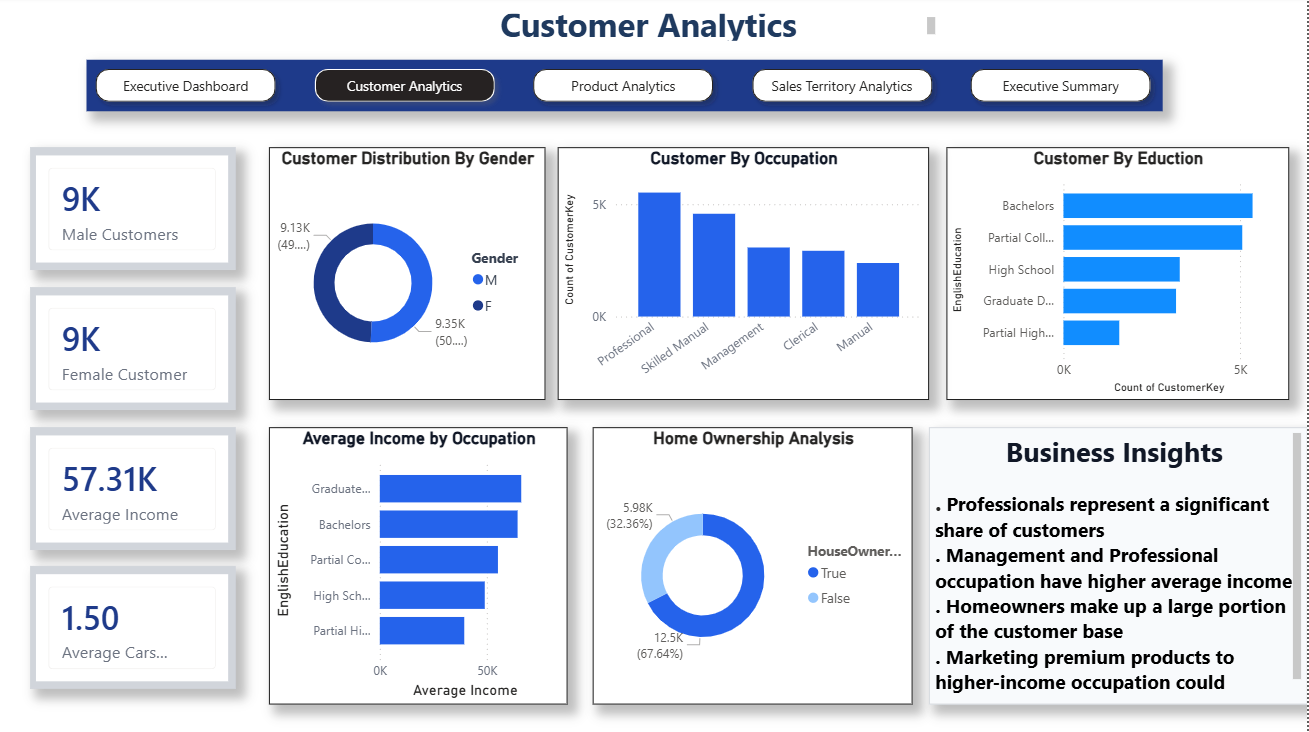

The page's visual inventory and layout, read from the dashboard file:
{"tool":"powerbi","page":{"name":"Customer Analytics","canvas":[1280,720],"ordinal":1},"visuals":[{"type":"cardVisual","fields":{"Data":["Measuress.Male Customers"]},"box":[30.6,148,200.5,119.8],"z":0},{"type":"cardVisual","fields":{"Data":["Measuress.Female Customer"]},"box":[30.6,284.9,200.5,119.8],"z":1000},{"type":"cardVisual","fields":{"Data":["Measuress.Average Income"]},"box":[30.6,421.9,200.5,119.8],"z":2000},{"type":"cardVisual","fields":{"Data":["Measuress.Average Cars Owned"]},"box":[30.6,557.6,200.5,119.8],"z":3000},{"type":"donutChart","title":"Customer Distribution By Gender","fields":{"Category":["Customer.Gender"],"Y":["Count(Customer.CustomerKey)"]},"box":[264.1,148,270.2,247],"z":4000},{"type":"clusteredBarChart","title":"Customer By Eduction","fields":{"Category":["Customer.EnglishEducation"],"Y":["Count(Customer.CustomerKey)"]},"box":[926.9,148,335.1,247],"z":5000},{"type":"clusteredColumnChart","title":"Customer By Occupation","fields":{"Category":["Customer.EnglishOccupation"],"Y":["Count(Customer.CustomerKey)"]},"box":[546.6,148,363.2,247],"z":6000},{"type":"clusteredBarChart","title":"Average Income by Occupation","fields":{"Category":["Customer.EnglishEducation"],"Y":["Measuress.Average Income"]},"box":[264.1,421.9,292.3,271.5],"z":7000},{"type":"textbox","box":[358.3,11,562.5,34.2],"z":8000},{"type":"donutChart","title":"Home Ownership Analysis","fields":{"Category":["Customer.HouseOwnerFlag"],"Y":["Count(Customer.CustomerKey)"]},"box":[580.8,421.9,313,271.5],"z":9000},{"type":"textbox","box":[909.8,421.9,370.5,271.5],"z":10000},{"type":"pageNavigator","box":[85.7,62.9,1052.9,50],"z":11000}]}

Visuals, with their boxes in screenshot pixels (x1, y1, x2, y2), scaled from the page's 1280x720 canvas onto the 1309x732 screenshot:
cardVisual - Measuress.Male Customers: <region>31, 150, 236, 272</region>
cardVisual - Measuress.Female Customer: <region>31, 290, 236, 411</region>
cardVisual - Measuress.Average Income: <region>31, 429, 236, 551</region>
cardVisual - Measuress.Average Cars Owned: <region>31, 567, 236, 689</region>
"Customer Distribution By Gender" donutChart: <region>270, 150, 546, 402</region>
"Customer By Eduction" clusteredBarChart: <region>948, 150, 1291, 402</region>
"Customer By Occupation" clusteredColumnChart: <region>559, 150, 930, 402</region>
"Average Income by Occupation" clusteredBarChart: <region>270, 429, 569, 705</region>
textbox: <region>366, 11, 942, 46</region>
"Home Ownership Analysis" donutChart: <region>594, 429, 914, 705</region>
textbox: <region>930, 429, 1308, 705</region>
pageNavigator: <region>88, 64, 1164, 115</region>
